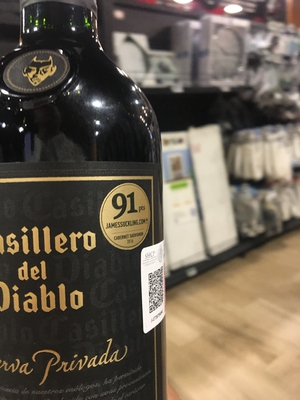casillero del diablo reserva privada cabernet sauvignon: (1, 9, 176, 400)
